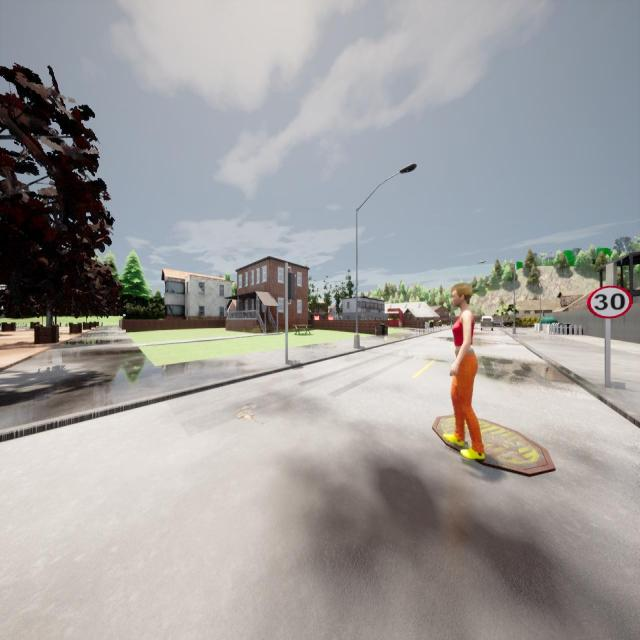Pedestrian: (444, 284, 486, 461)
Traffic_Signs: (587, 286, 632, 320)
Vehicle: (480, 316, 494, 331)
traffic_light: (288, 272, 296, 300)
